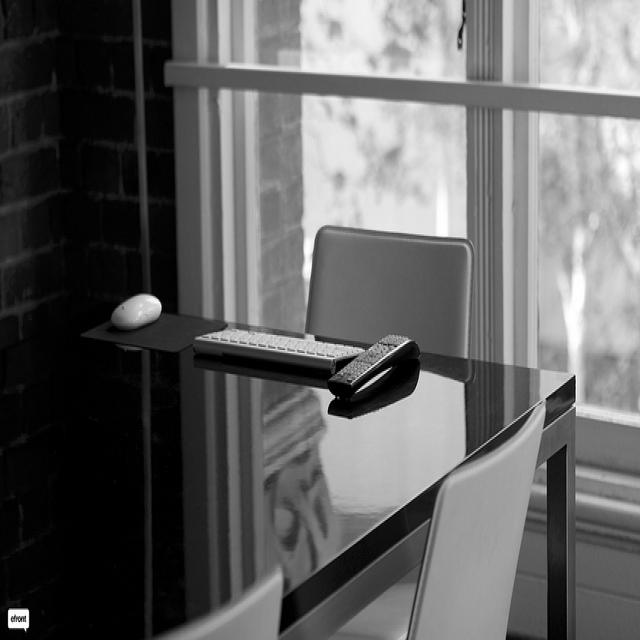chair: (410, 408, 547, 633), (300, 225, 471, 361), (179, 575, 283, 632)
dining table: (1, 317, 582, 635)
